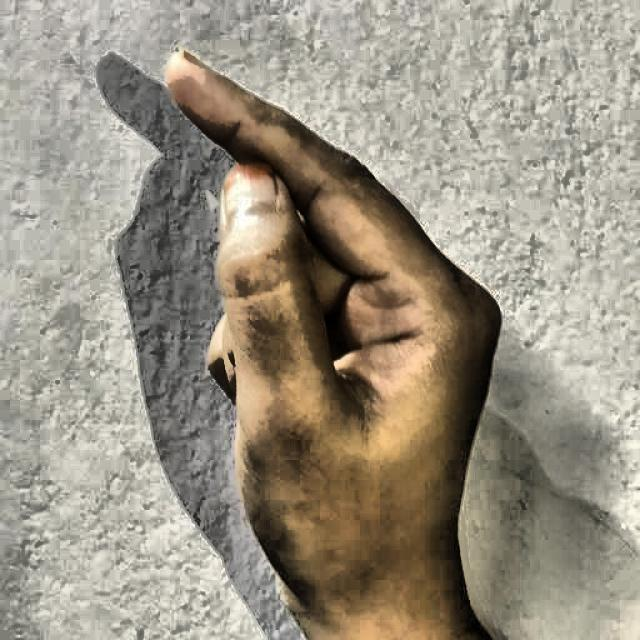Tha: (148, 40, 518, 640)
